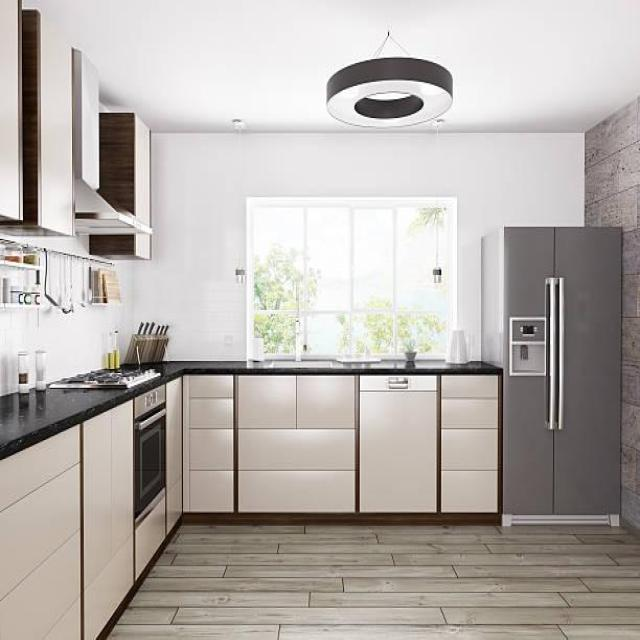dishwasher: (351, 366, 443, 532)
